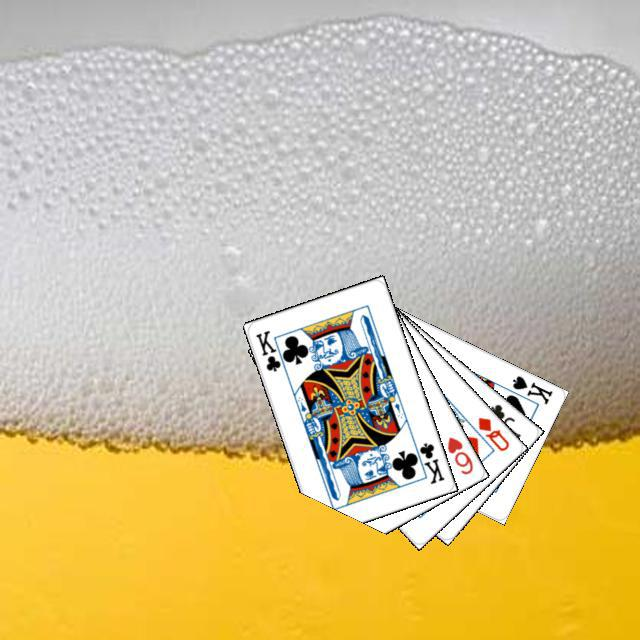6h: (442, 432, 475, 476)
Jc: (484, 399, 522, 440)
Kc: (250, 325, 289, 374), (408, 436, 446, 486)
Ks: (507, 371, 554, 406)
Qd: (473, 412, 511, 453)
